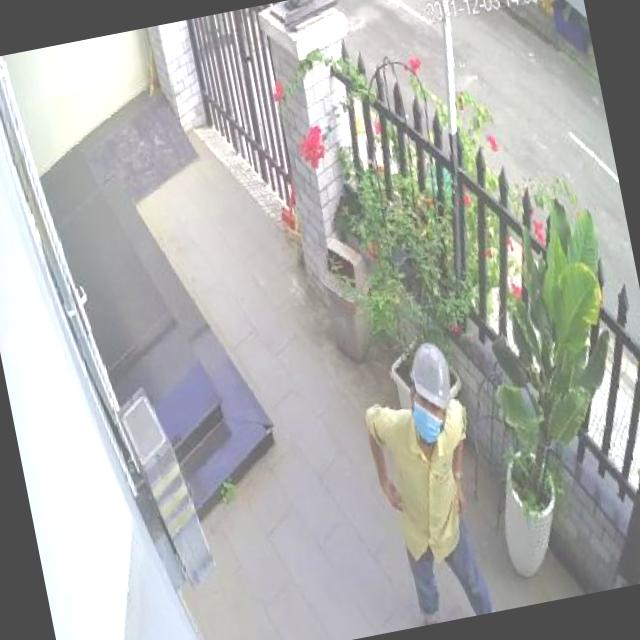Person: (353, 340, 506, 629)
